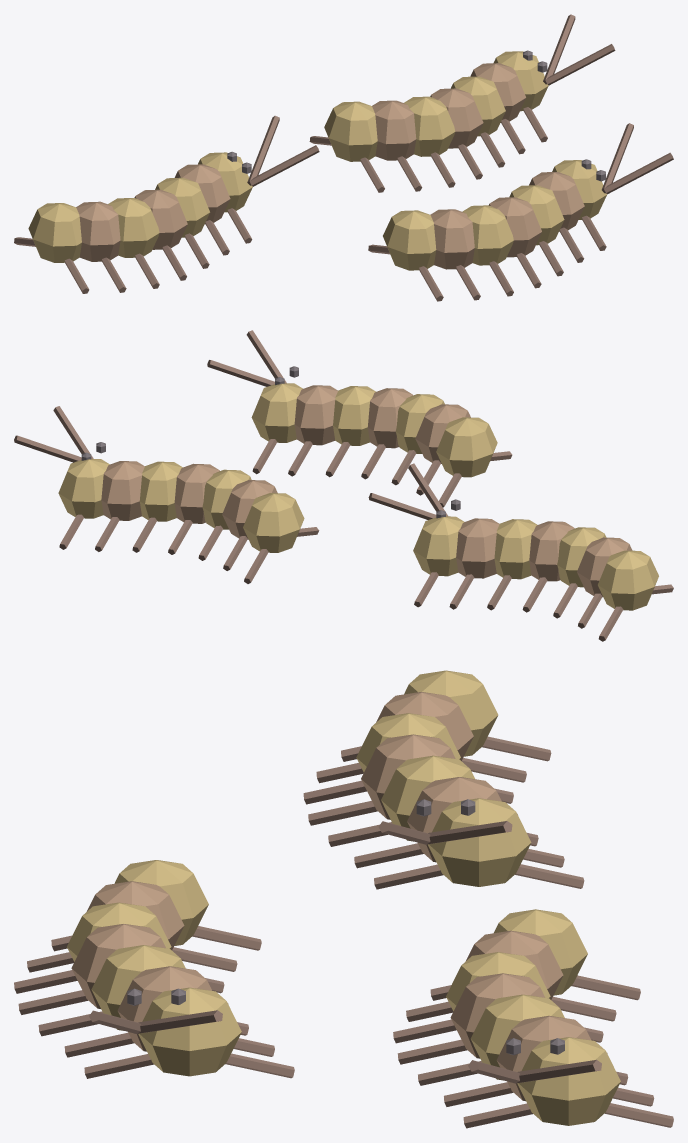
File: centipedes.glb
3 renders of one model, top to bottom at view 1: azimuth 30°, elevation 25°; view 2: azimuth 150°, elevation 25°; view 3: azimuth 270°, elevation 25°, orthographic. The views are drawn at different scales.
Visible parts, largest first — view 1: centipedes; view 2: centipedes; view 3: centipedes.
Part boxes in pixels (x1,y1,x2,y2): centipedes: (14, 14, 673, 301); centipedes: (14, 330, 673, 641); centipedes: (14, 670, 673, 1128).
Size of the model in its own units: 1.49 by 0.1917 by 0.9575.
